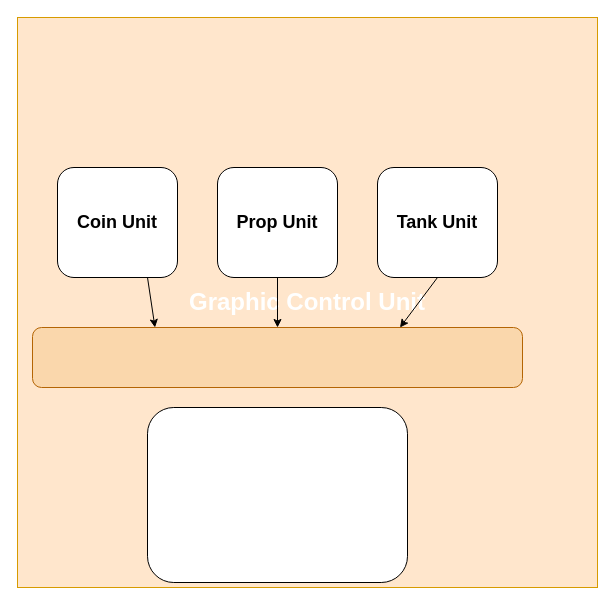
Some shapes in this 615 by 605 pixel diagram are drawn without their labels. The box of each missing label's shape, as (x1, y1, x2, y2) in pixels:
Color Mapper Unit: (146, 406, 408, 582)
Graphic Register File: (32, 326, 522, 388)
